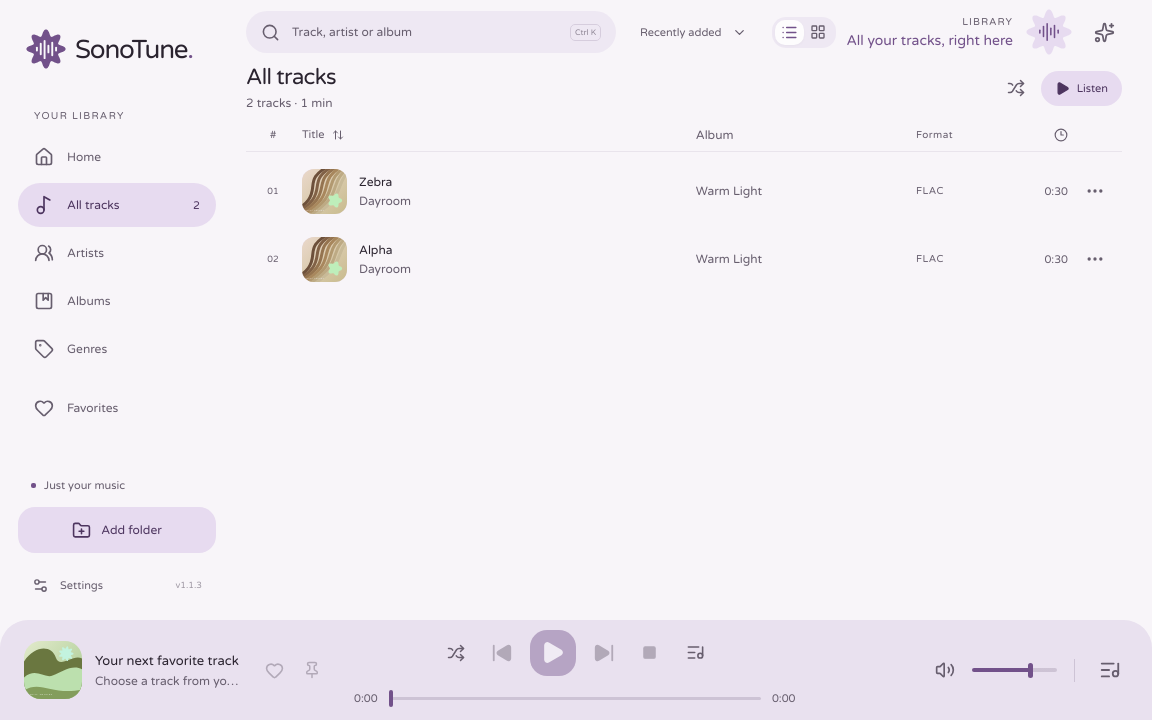
Test case: sorts the actual library through the custom listbox in English without changing track metadata
The image size is (1152, 720).
Click the button with aria-label "Sort tracks" at coordinates (693, 32), box [627,14,760,50]
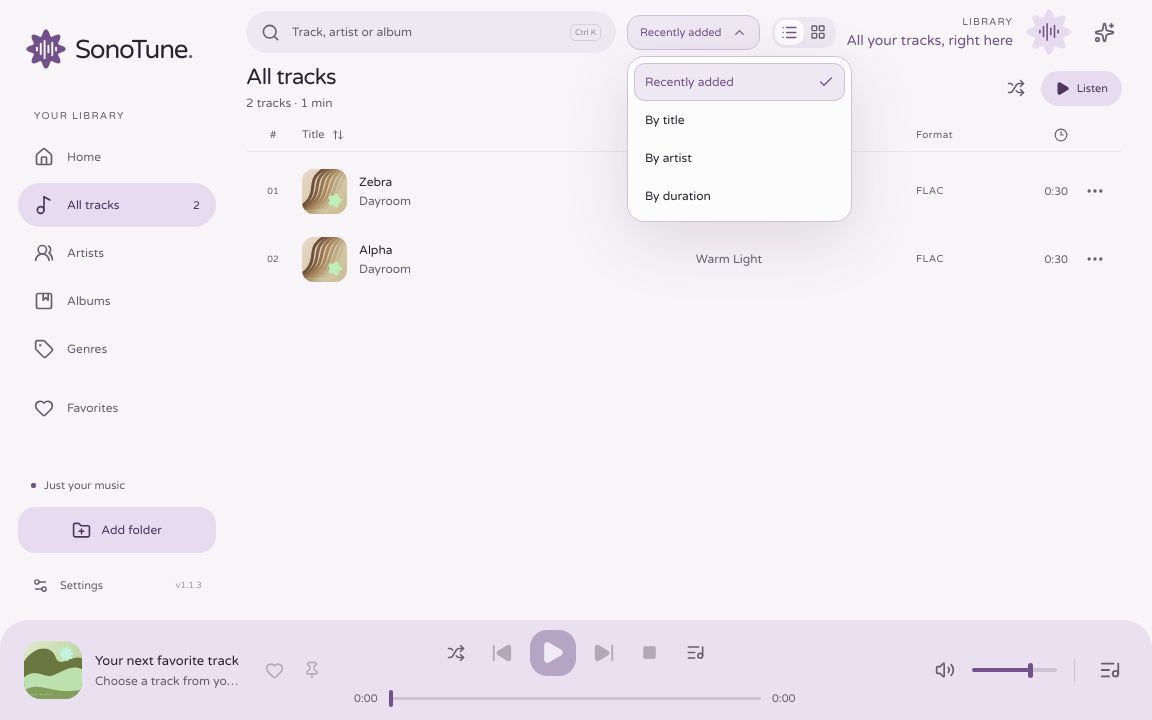
Click the option "By title" at coordinates (665, 120), box [645,112,685,126]
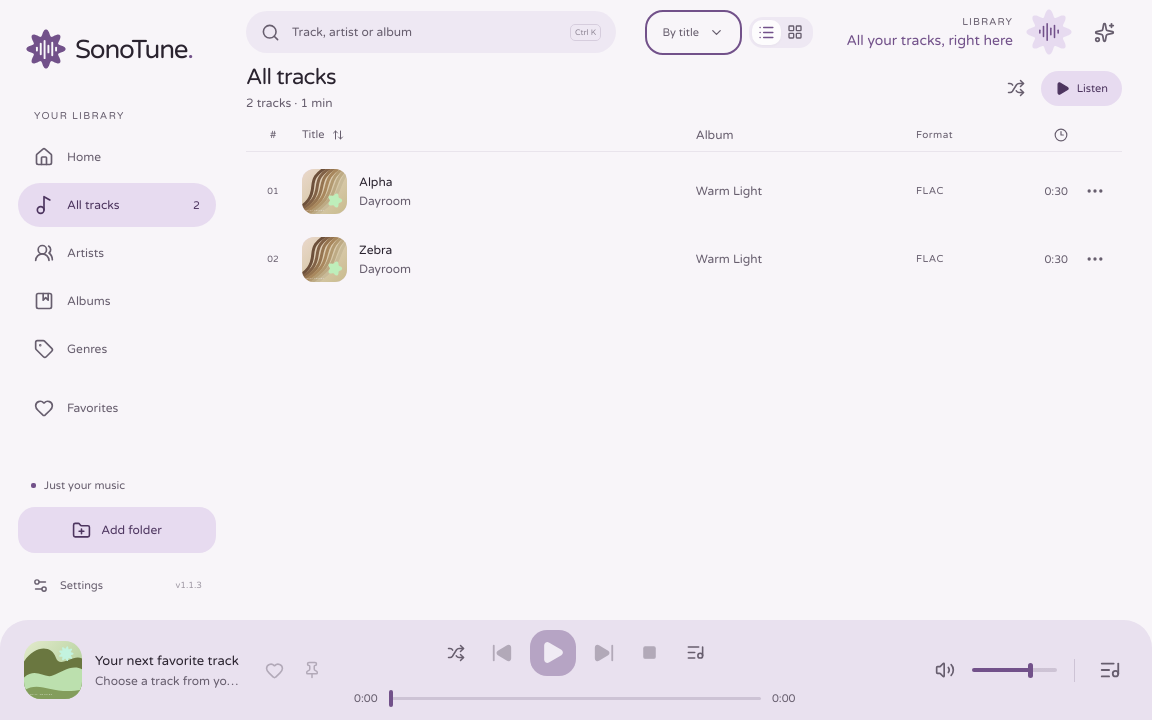
Expected: the button with class "track-title" reads "Zebra", [359,242,411,256]
Result: the list is gone
